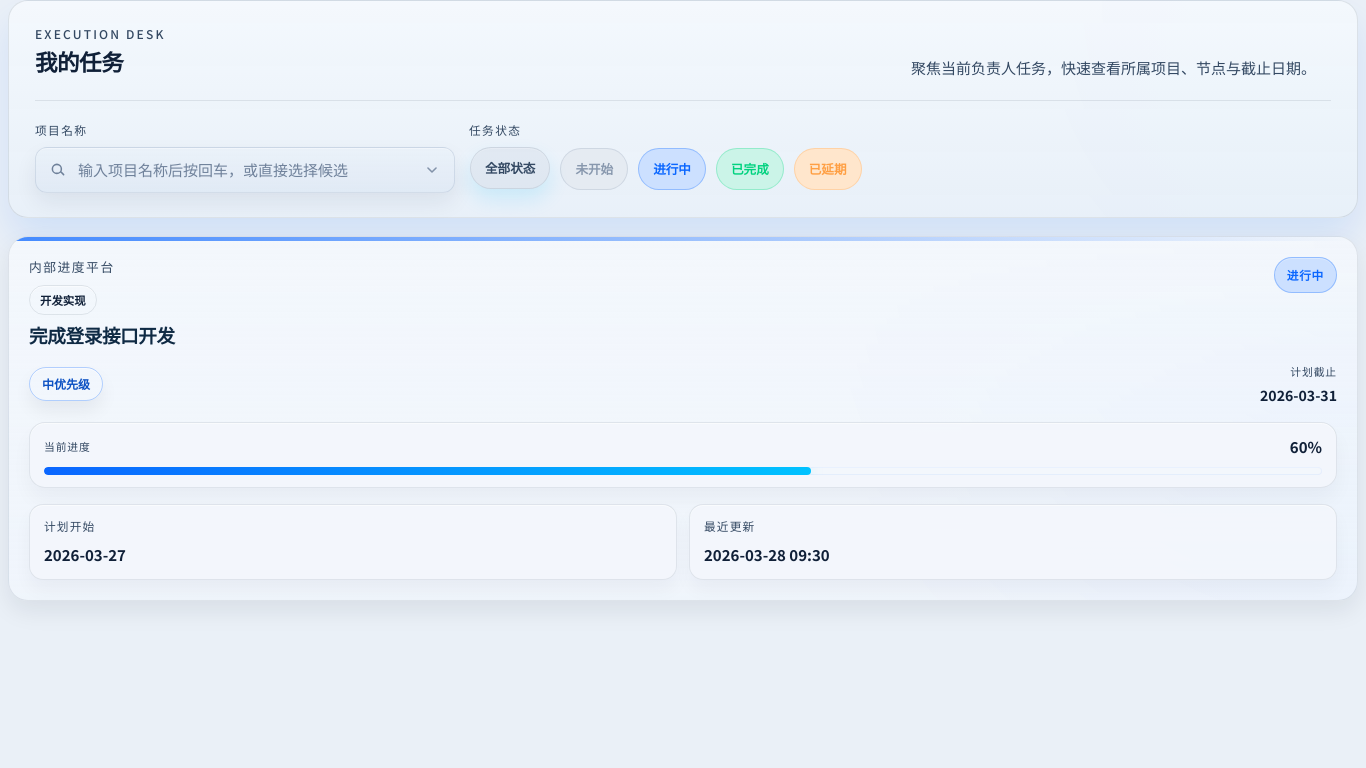
Test: MyTasksView › submits progress from the my-task dialog and refreshes the task list
Expected: the heading "完成登录接口开发" is shown, [29,323,175,346]
Click the button with test id "my-task-card-3001". click: (683, 418)
box: [8,236,1358,601]
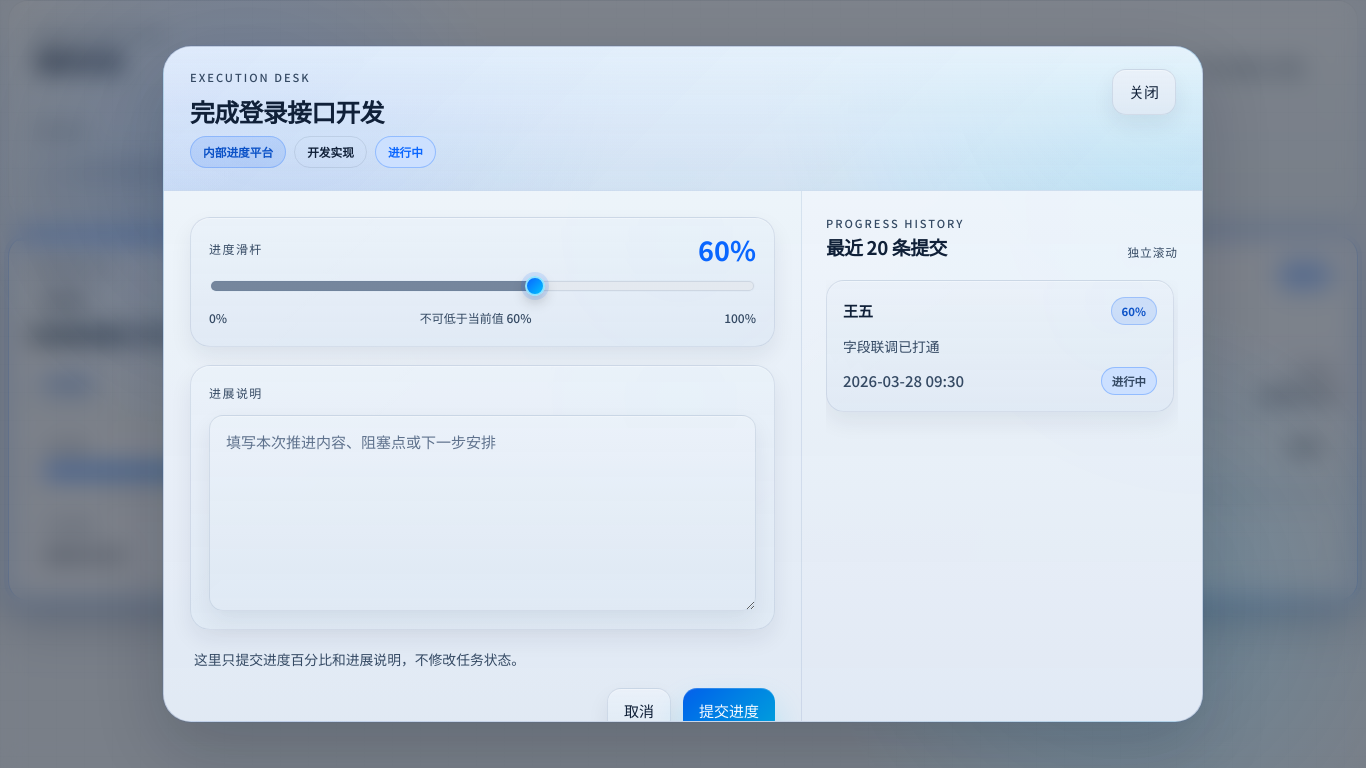
Set the slider with test id "my-task-progress-range" to "80". click: (641, 286)
box: [211,277,754,295]
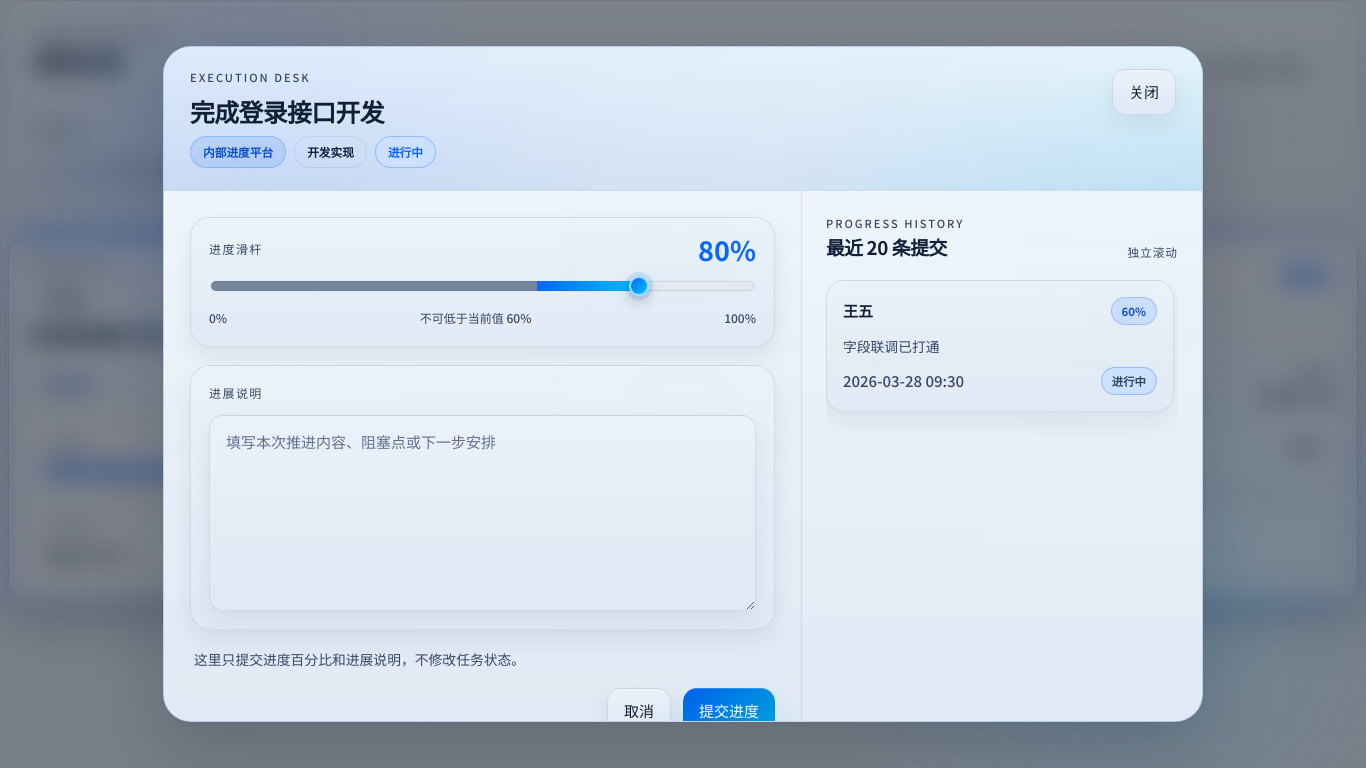
Type "推进到联调" into the text box labelled "进展说明". click: (482, 513)
box: [209,415,756,610]
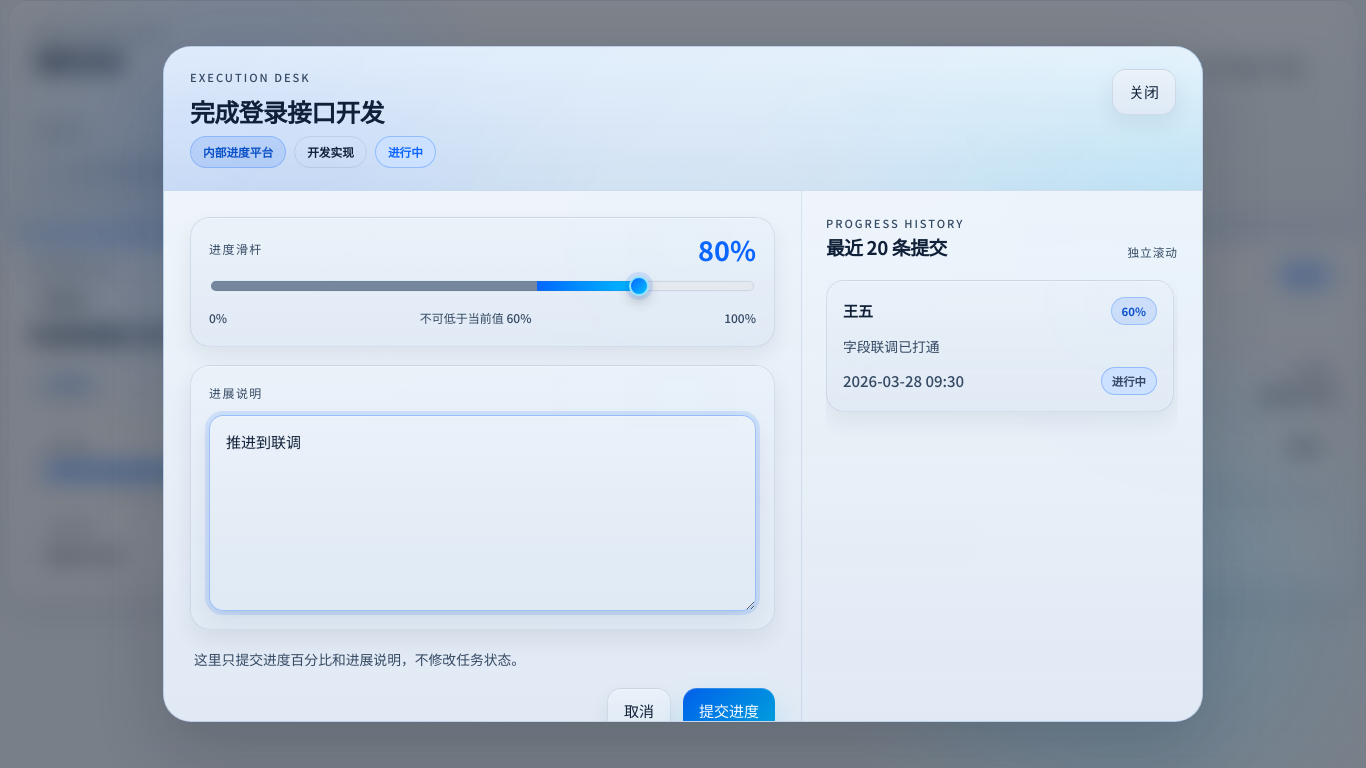
Click the button "提交进度". click: (729, 711)
box: [683,688,775,734]
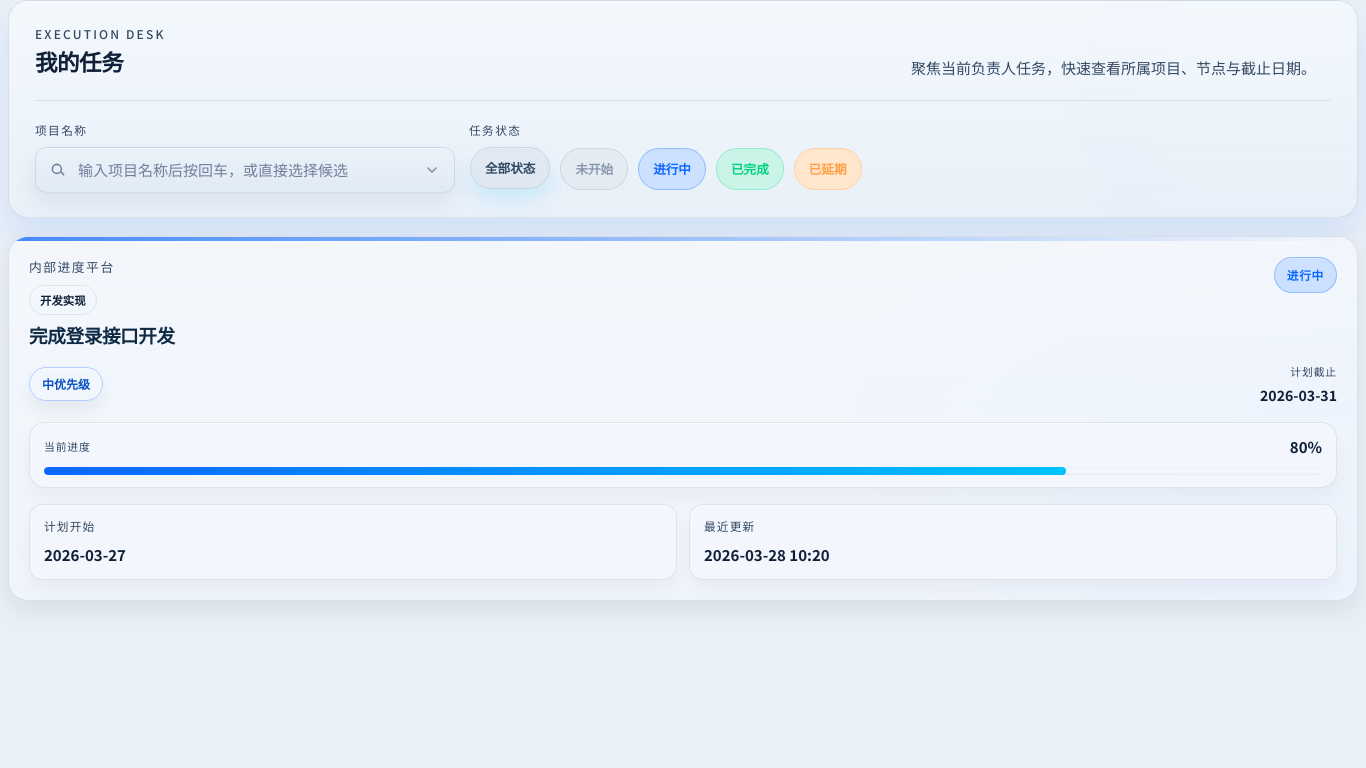
Now the heading "最近 20 条提交" is gone
Now the text "80%" is shown, box [1290,435,1322,459]
